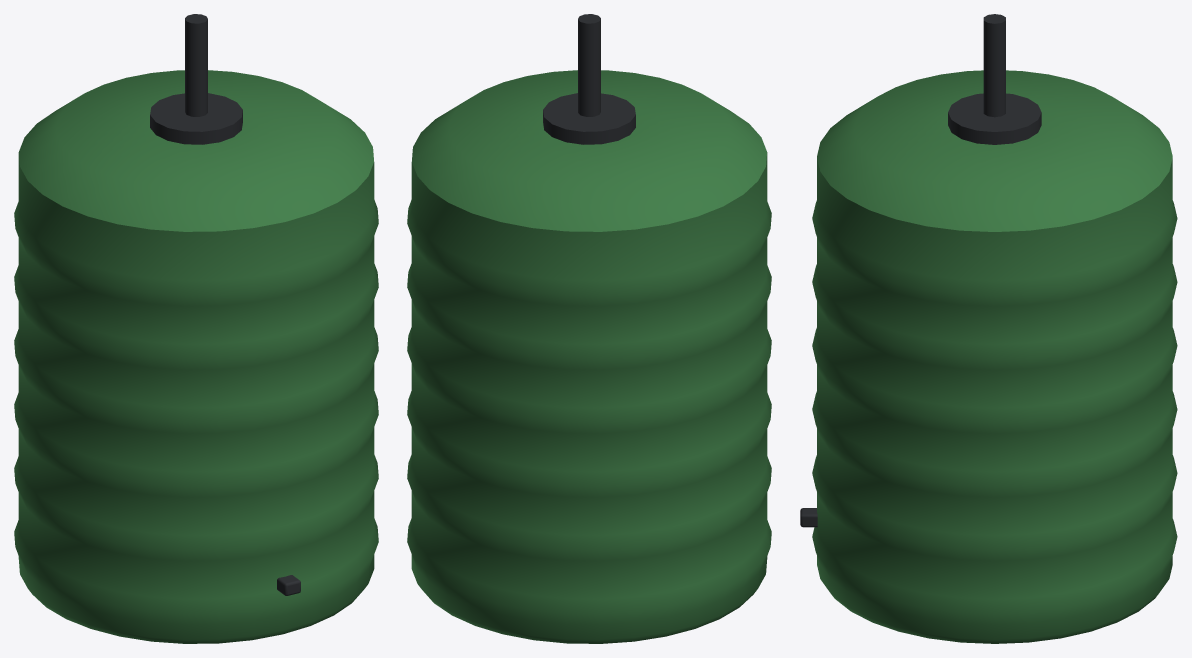
The model's file is water_tank.fbx.
3 views of the same model, side by side, from view 1: azimuth 30°, elevation 25°; view 2: azimuth 150°, elevation 25°; view 3: azimuth 270°, elevation 25° (orthographic).
Parts seen in each view (by area): view 1: water_tank; view 2: water_tank; view 3: water_tank.
Part boxes in pixels (x1,y1,x2,y2): water_tank: (14, 14, 378, 643); water_tank: (407, 14, 771, 643); water_tank: (800, 14, 1177, 643).
Size of the model in its own units: 1.56 by 2.6 by 1.61.
